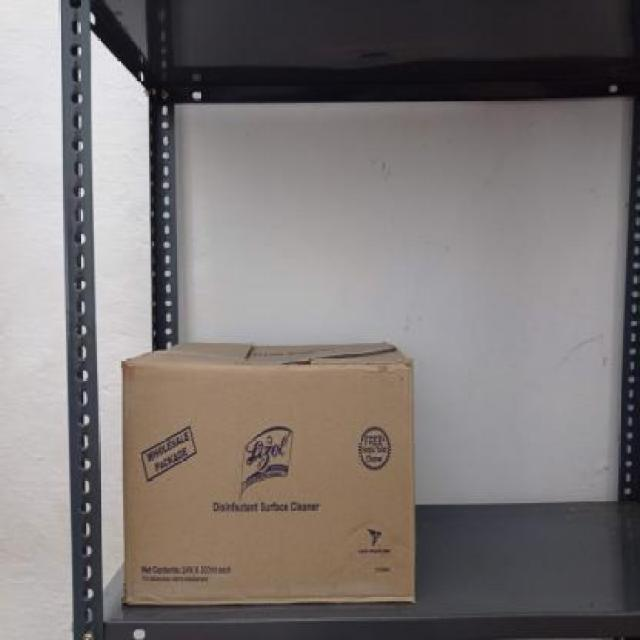box: (118, 358, 415, 607)
